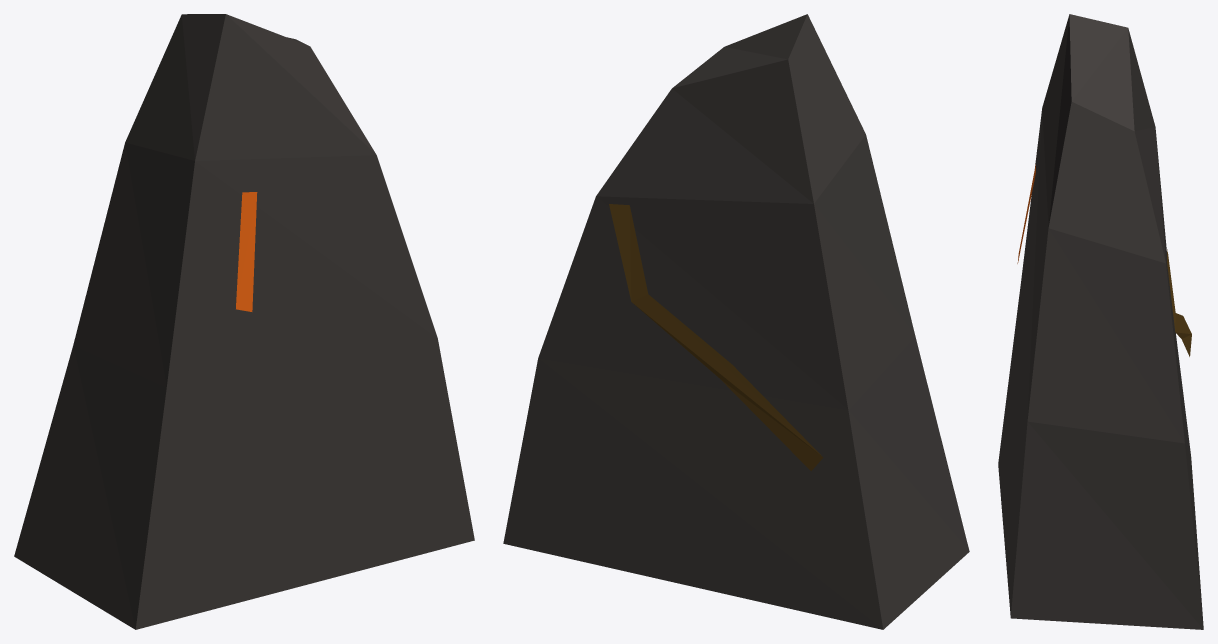
Rendered from mountain_cliff.obj.
3 renders of one model, left to right at view 1: azimuth 30°, elevation 25°; view 2: azimuth 150°, elevation 25°; view 3: azimuth 270°, elevation 25°, orthographic. The views are drawn at different scales.
Visible parts, largest first — view 1: SlantedMountainCliff; view 2: SlantedMountainCliff; view 3: SlantedMountainCliff.
Boxes of the visible parts, bbox=[...] form: SlantedMountainCliff: bbox=[14, 14, 474, 629]; SlantedMountainCliff: bbox=[503, 14, 969, 629]; SlantedMountainCliff: bbox=[998, 14, 1203, 629].
Size of the model in its own units: 1.95 by 2.67 by 0.98.
